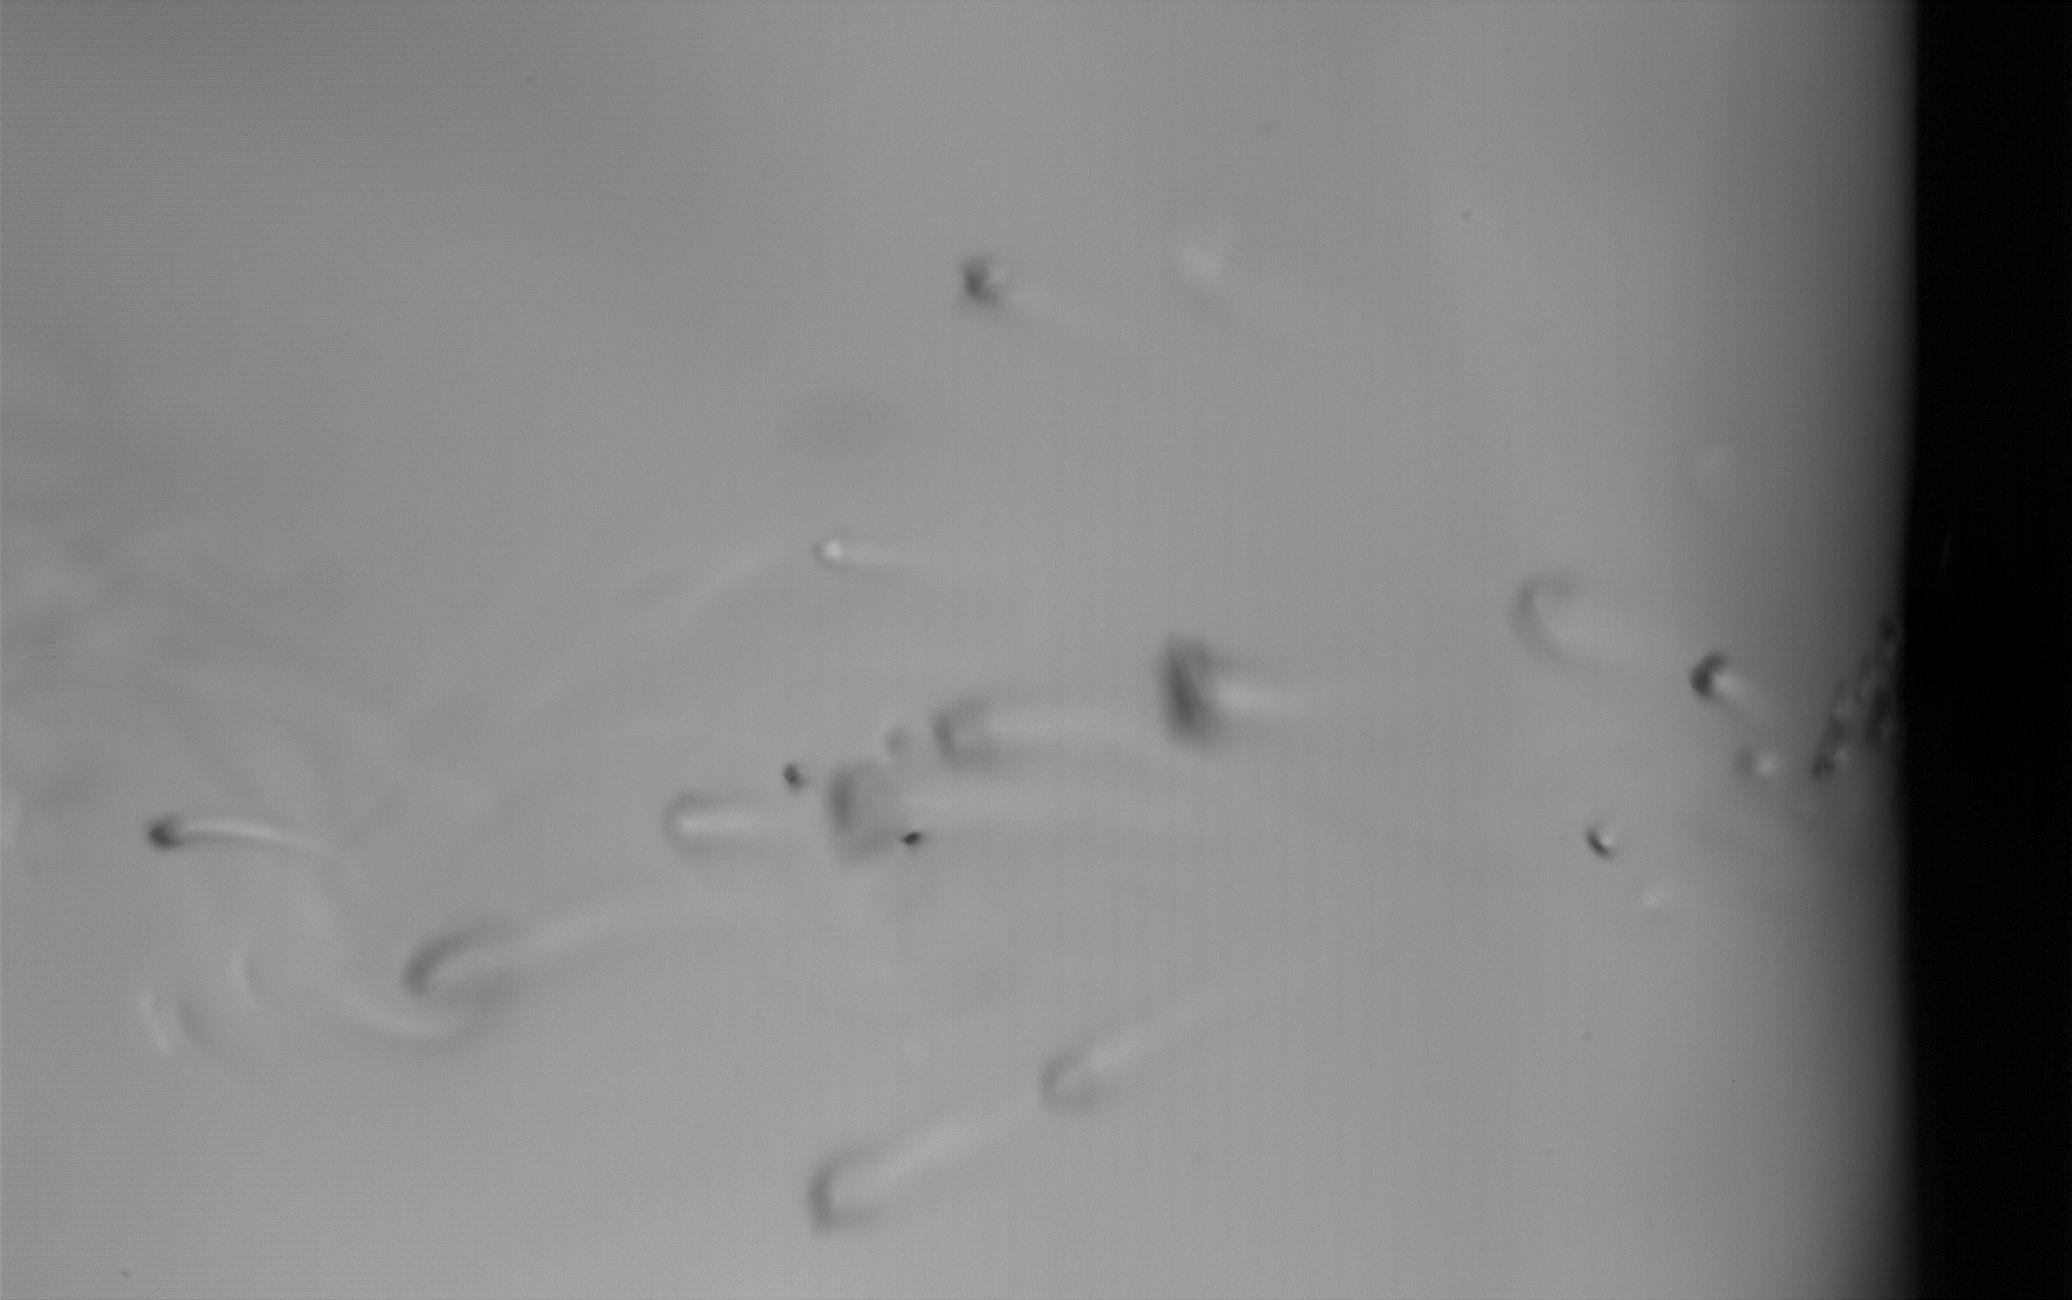Blurry: (823, 755, 891, 872), (1151, 637, 1222, 747), (933, 693, 999, 782), (1689, 641, 1729, 713), (1584, 807, 1615, 869)
DiffusiveMixing: (1509, 566, 1593, 669), (398, 926, 481, 1014), (802, 1155, 877, 1228), (142, 804, 247, 854), (657, 792, 725, 845)
